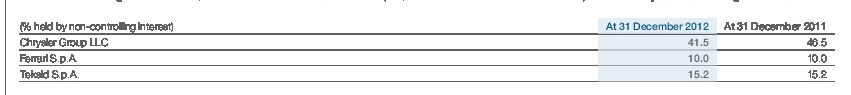table: (0, 0, 851, 95)
